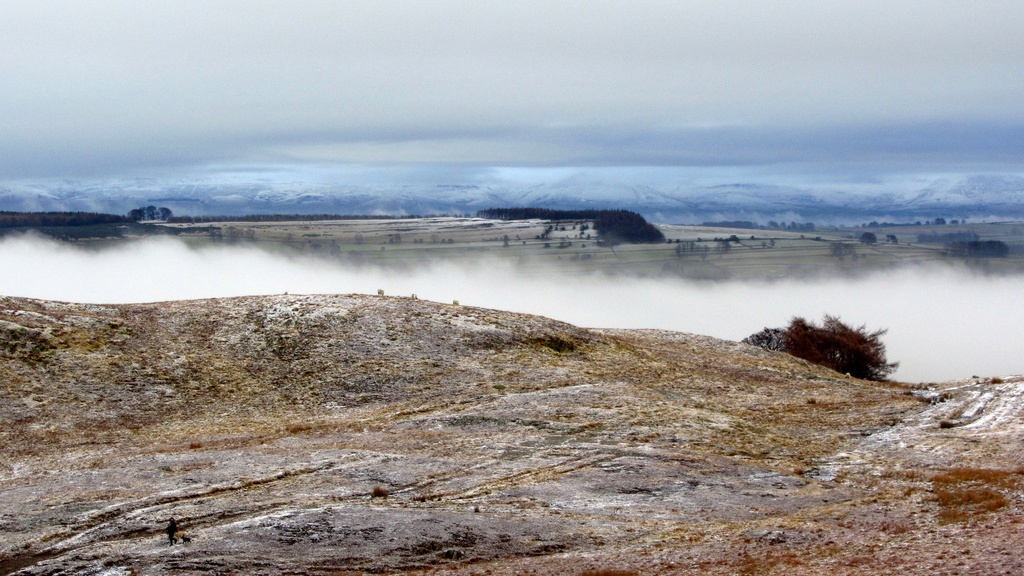Animal: (165, 517, 197, 541), (375, 284, 381, 295)
